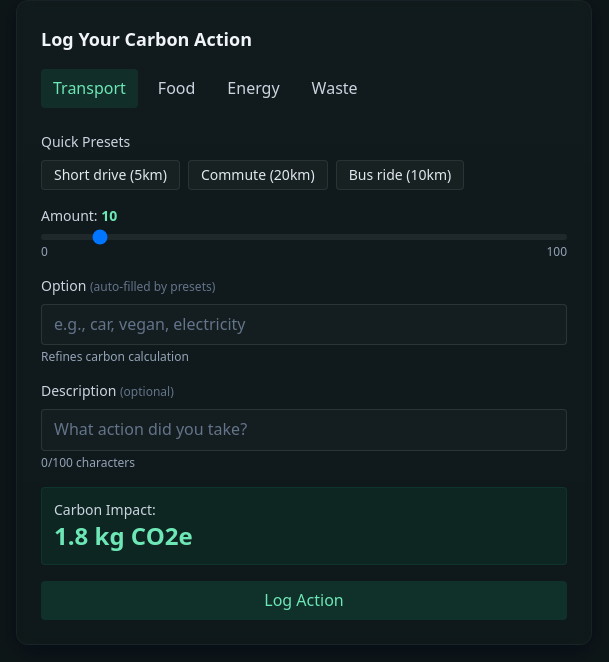
Test: AssessmentForm interactions › renders presets and updates live preview and submits
Step 1. Click the button "Short drive (5km)" → (110, 175), box [41,160,180,190]
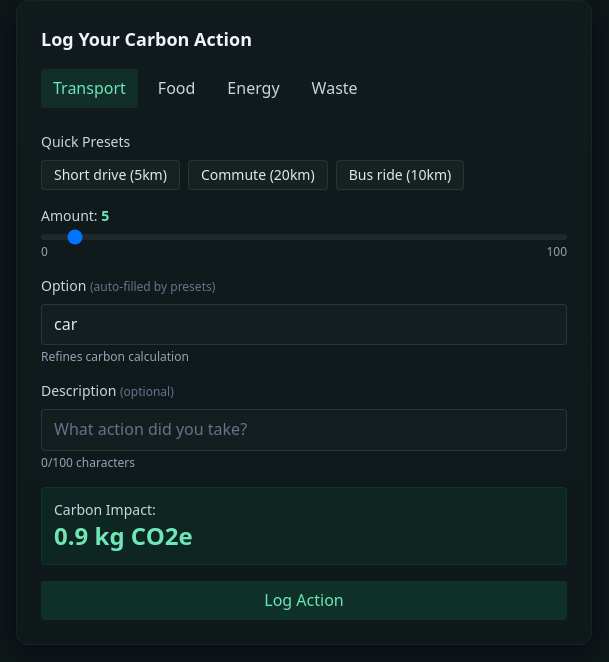
Expected: the text "Carbon Impact:" is shown, [54,500,156,519]
Now the text "5" is shown, box [101,206,109,225]
Note: Submit the form using aria-label
Step 2. Click the button with aria-label "Submit carbon log" → (304, 600), box [41,581,567,620]
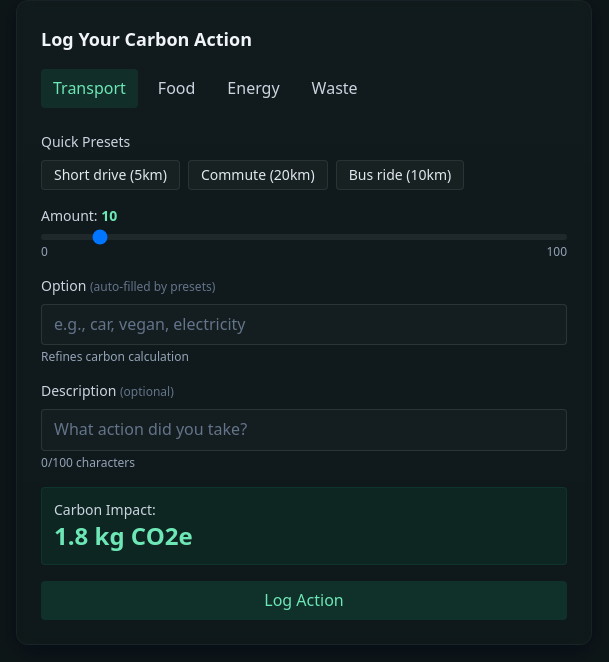
Now the text "10" is shown, box [101,206,117,225]
